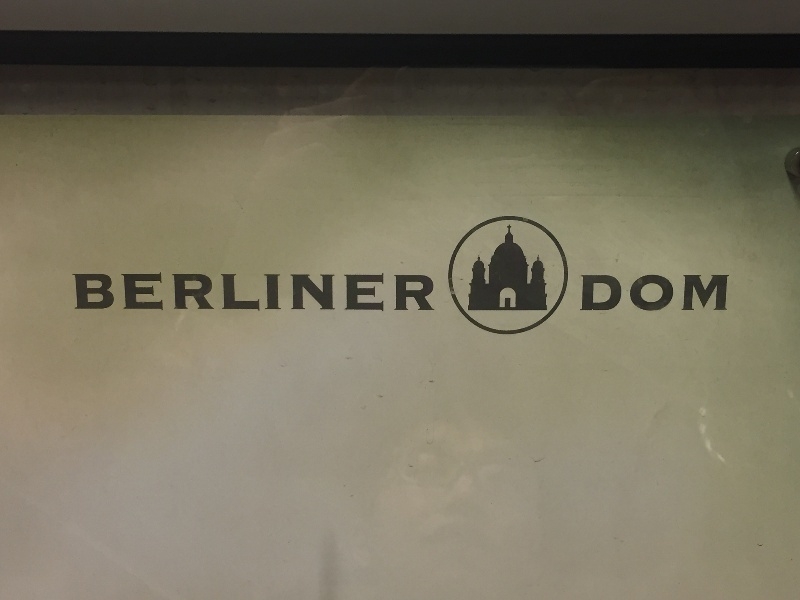text: (593, 275, 608, 314), (609, 275, 624, 314), (625, 275, 640, 314), (641, 275, 656, 314), (657, 275, 672, 314), (673, 275, 688, 314), (689, 275, 704, 314), (705, 275, 720, 314), (81, 274, 96, 312), (97, 274, 112, 312), (113, 274, 128, 312), (129, 274, 144, 312), (145, 274, 160, 312), (161, 274, 176, 312), (177, 274, 192, 312), (193, 274, 208, 312), (209, 274, 224, 312), (225, 274, 240, 312), (241, 274, 256, 312), (257, 274, 272, 312), (273, 274, 288, 312), (289, 274, 304, 312), (305, 274, 320, 312), (321, 274, 336, 312), (337, 274, 352, 312), (353, 274, 368, 312), (369, 274, 384, 312), (385, 274, 400, 312), (401, 274, 416, 312), (417, 274, 432, 312), (581, 275, 592, 314), (721, 275, 732, 314), (74, 274, 80, 312), (433, 274, 435, 312)
